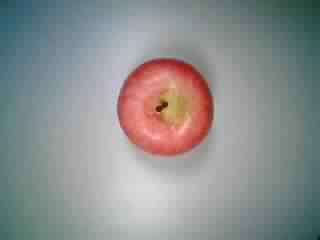apple: (113, 55, 218, 157)
